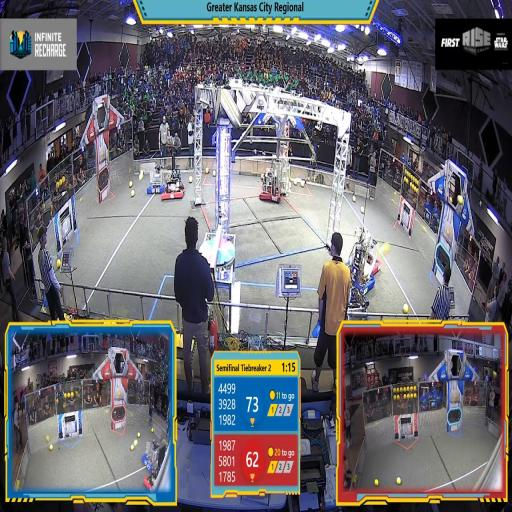robot: (343, 226, 375, 296), (353, 228, 381, 278), (161, 154, 183, 198), (145, 156, 169, 195), (260, 164, 282, 206)
